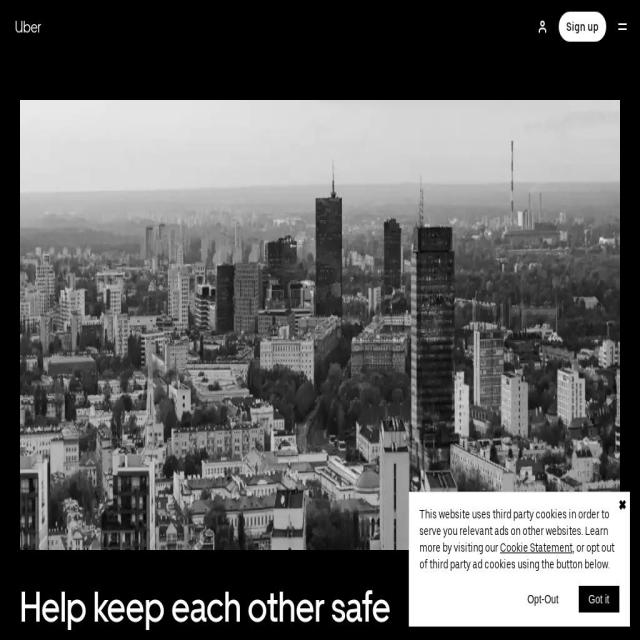button: (559, 12, 606, 42), (517, 586, 569, 612), (578, 586, 620, 612), (531, 12, 554, 42), (611, 12, 634, 42)
heading: (20, 580, 620, 633)
image: (538, 20, 548, 33), (618, 20, 628, 33)
link: (500, 541, 572, 554), (15, 10, 41, 43), (527, 592, 559, 606)
text: (420, 508, 610, 554), (420, 541, 614, 571)
